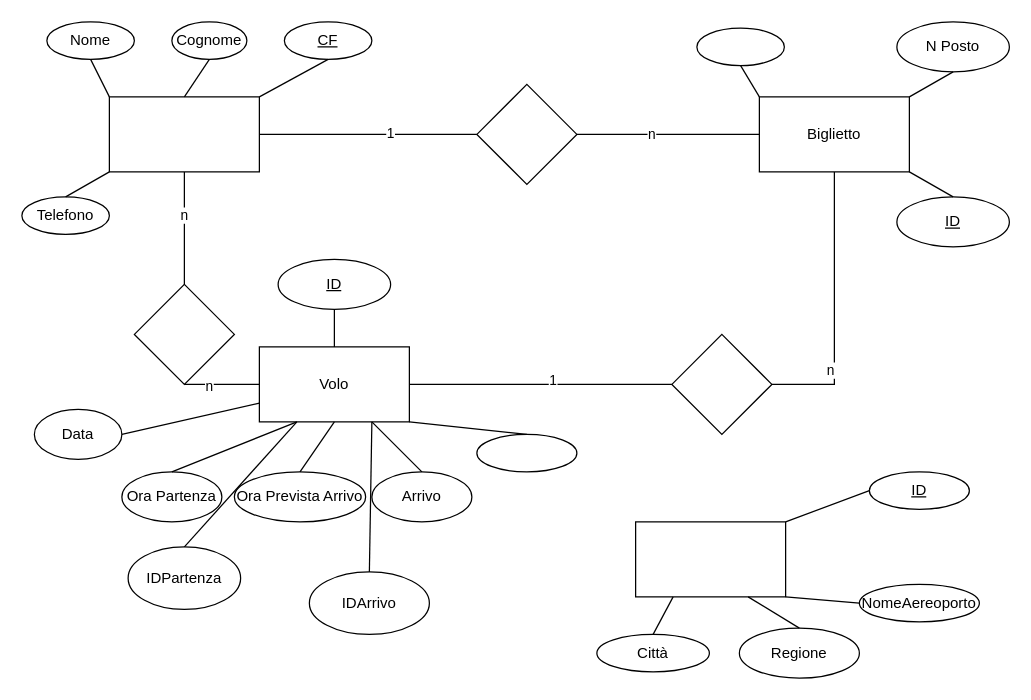
Some shapes in this 1031 by 700 pixel diagram are drawn without their labels. The centre of each missing label's shape, as x and y in pixels:
Aereoporto: the point at 710,559
Associato: the point at 721,383
Partenza: the point at 526,452
Passeggero: the point at 183,134
Possiede: the point at 526,133
Prezzo: the point at 740,46
Viaggia: the point at 183,333
